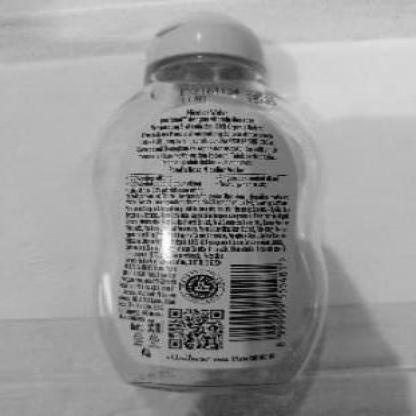objects: (80, 9, 328, 397)
